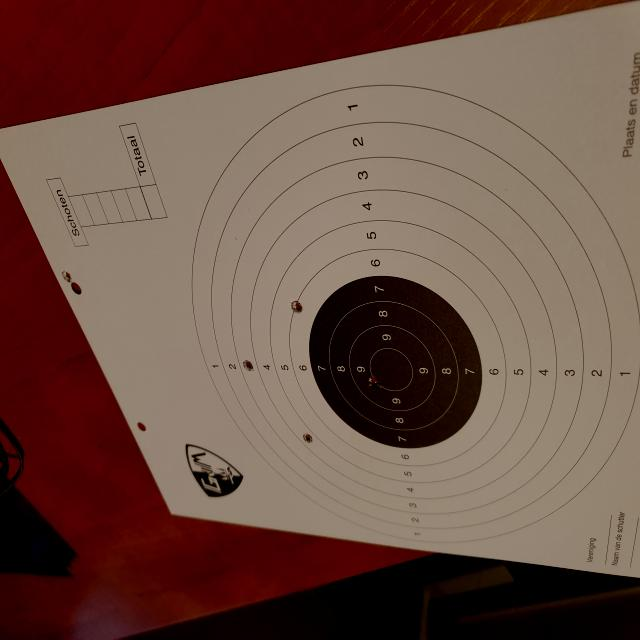0: (61, 268, 72, 284)
10: (368, 374, 382, 392)
3: (240, 358, 255, 374)
4: (302, 432, 314, 445)
6: (289, 300, 303, 316)
Target: (190, 80, 640, 548)
black_contour: (309, 275, 482, 449)
